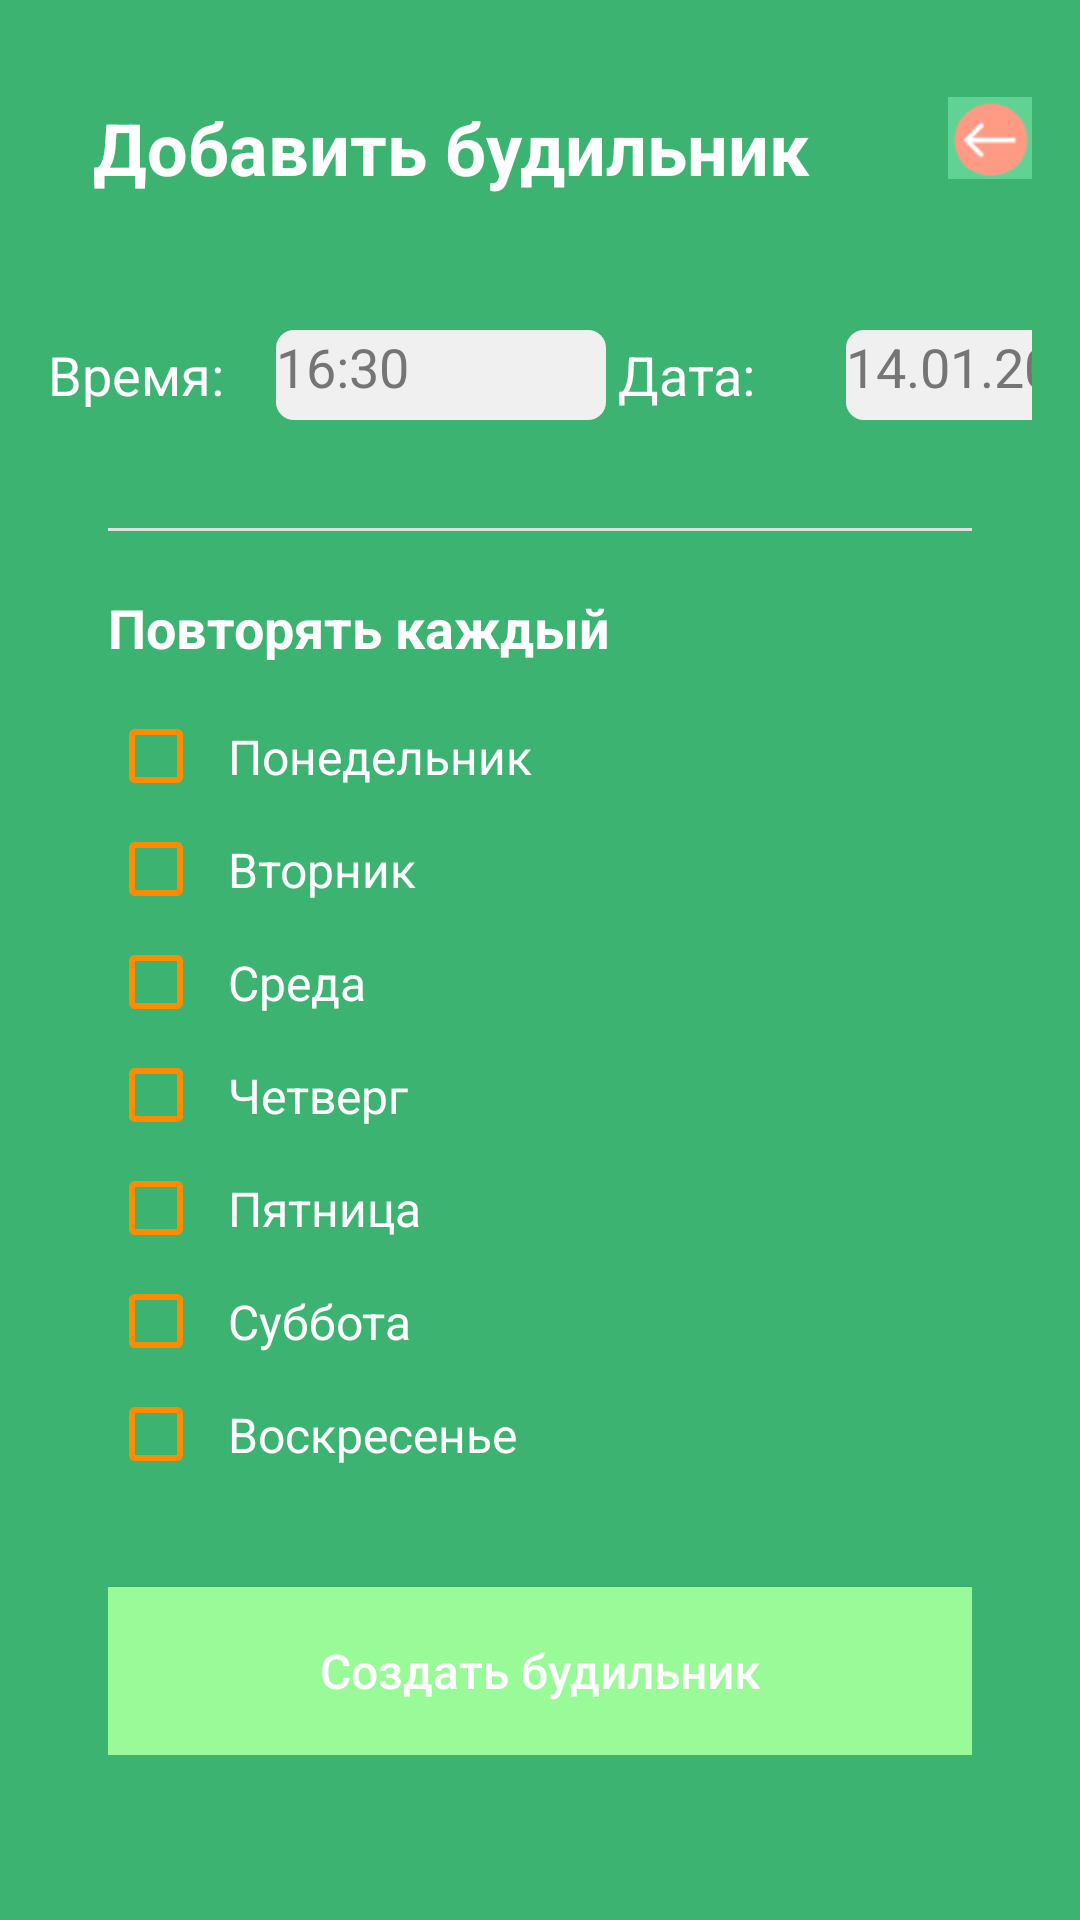

Icons on this 1080*1920 Android screen, each with its box as Rect(x1, y1, x2, y2):
arrow: Rect(948, 97, 1032, 179)
